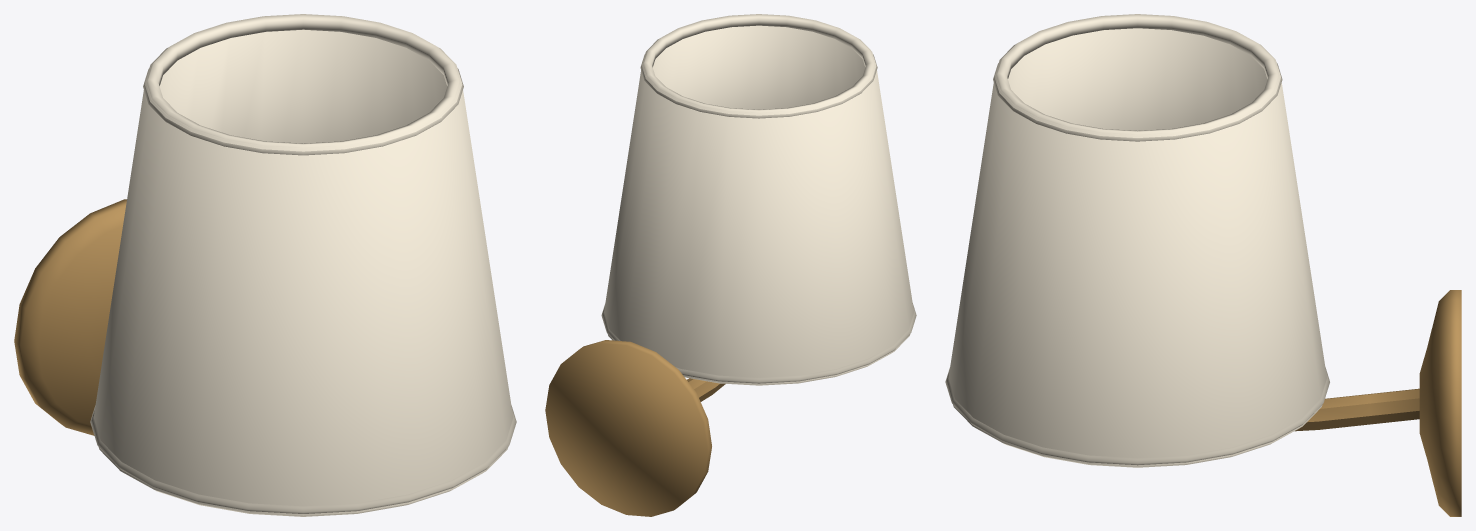
The model's file is wallSconce.glb.
3 renders of one model, left to right at view 1: azimuth 30°, elevation 25°; view 2: azimuth 150°, elevation 25°; view 3: azimuth 270°, elevation 25°, orthographic. The views are drawn at different scales.
Parts seen in each view (by area): view 1: wallSconce; view 2: wallSconce; view 3: wallSconce.
Boxes of the visible parts, bbox=[...] form: wallSconce: bbox=[14, 14, 516, 516]; wallSconce: bbox=[545, 14, 916, 516]; wallSconce: bbox=[945, 14, 1461, 516].
Bounding box in the file's own units: 0.202 × 0.2514 × 0.271.
